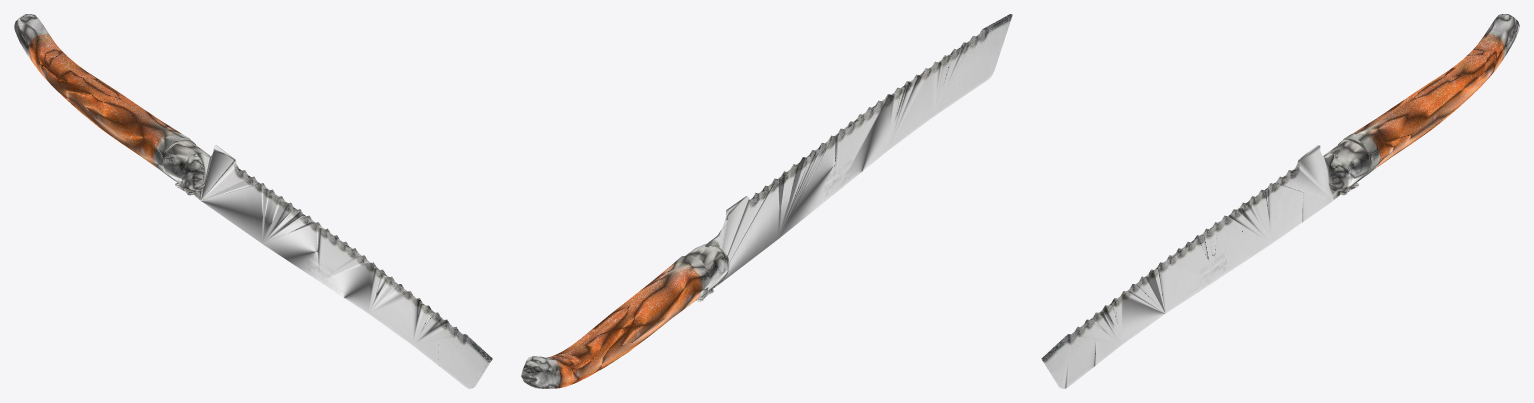
Rendered from model_align.obj.
The picture shows the model from 3 angles, left to right: view 1: azimuth 30°, elevation 25°; view 2: azimuth 150°, elevation 25°; view 3: azimuth 330°, elevation 25°; orthographic projection. The views are drawn at different scales.
Size of the model in its own units: 0.0104 by 0.0176 by 0.2313.
Materials: 1 (1 with a texture image).
